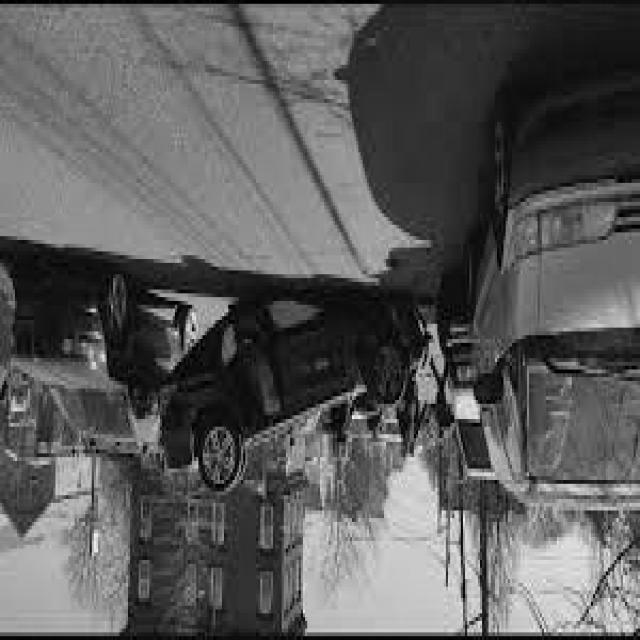severe: (146, 280, 428, 505)
